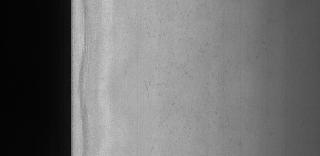silk spot: (142, 29, 226, 147)
